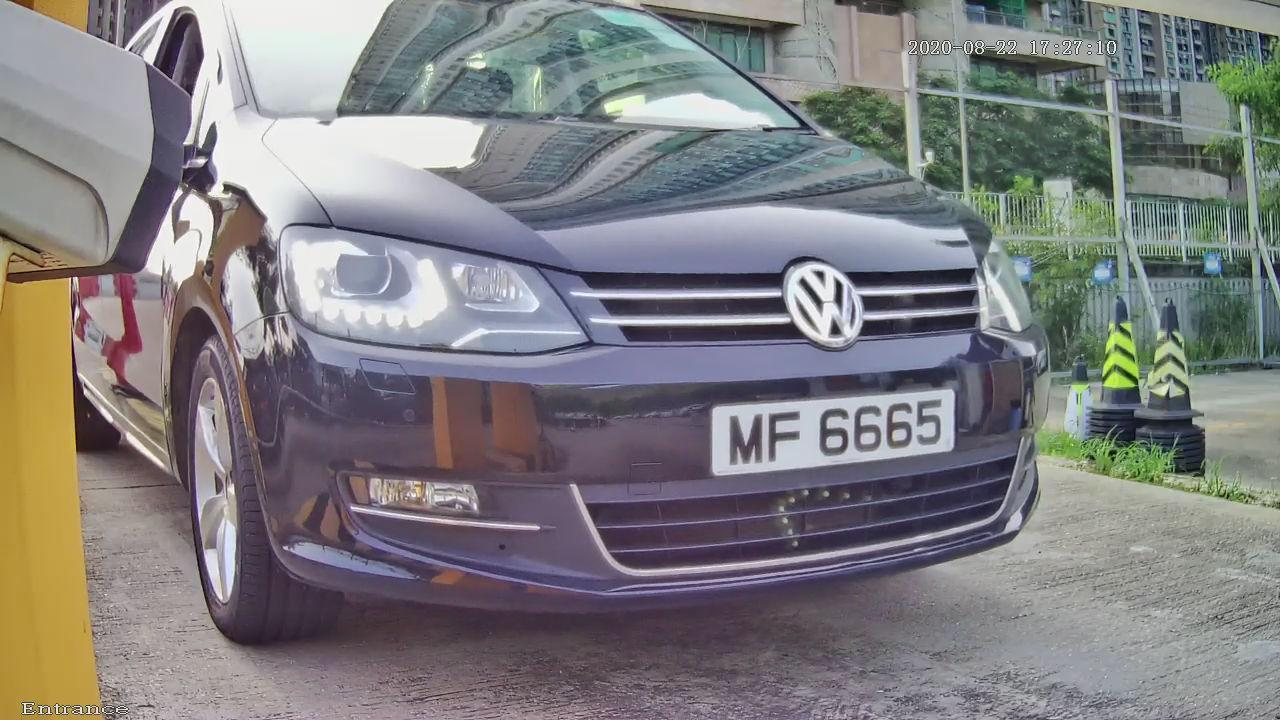Car: (63, 4, 1121, 672)
License Plate: (668, 350, 984, 500)
